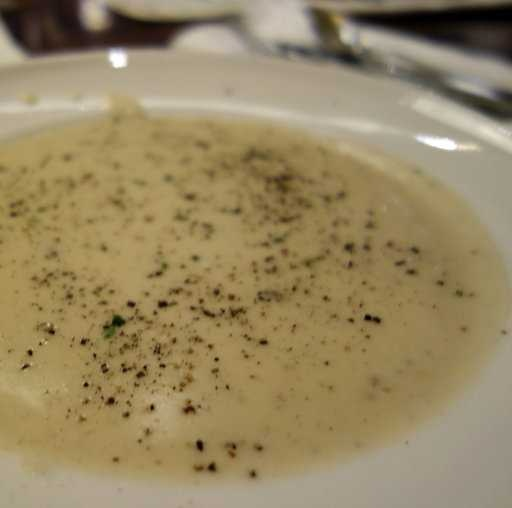soup: (1, 92, 430, 487)
